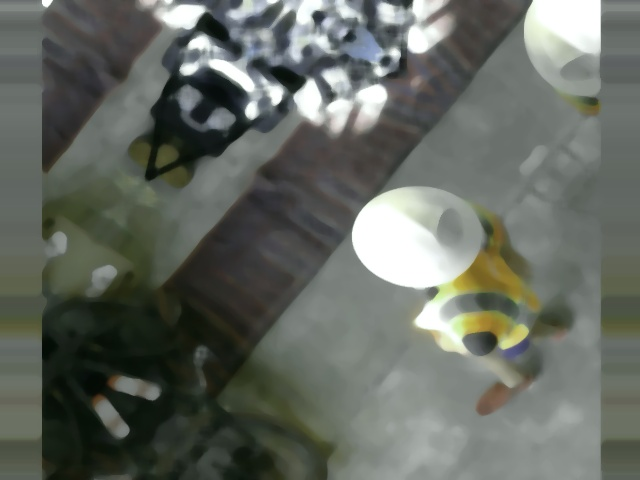two: (424, 204, 474, 252)
